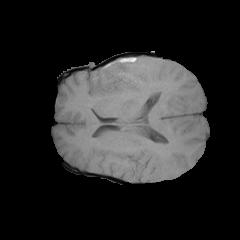glioma: (97, 57, 145, 92)
